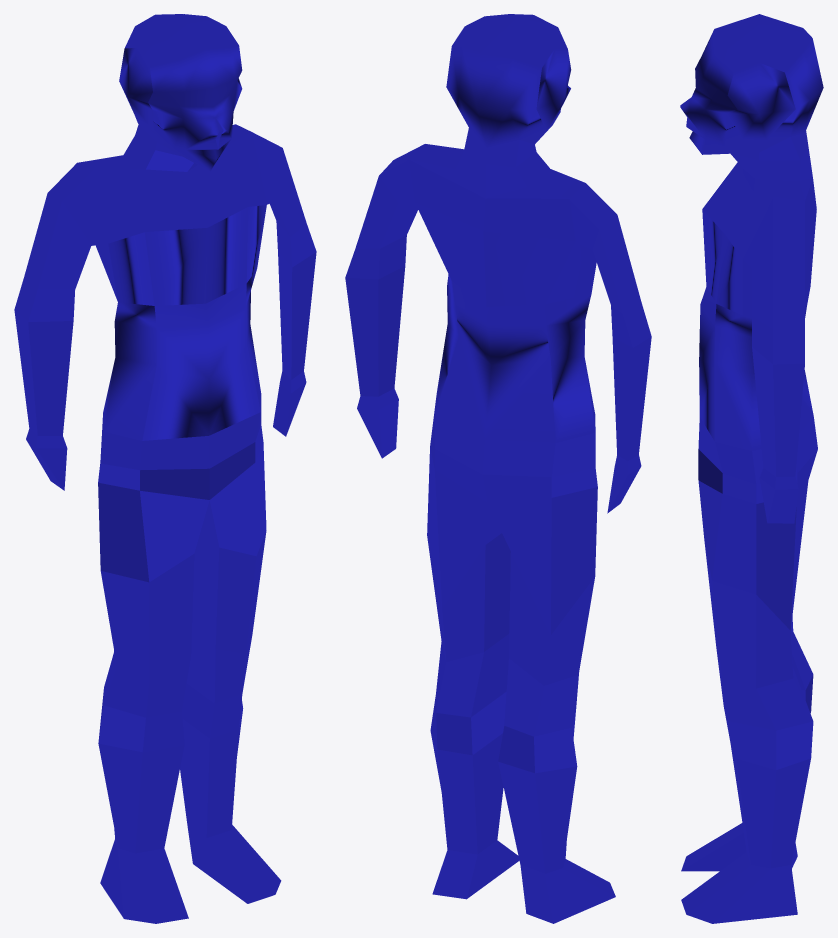
File: Ped_Man_Placeholder.obj
3 renders of one model, left to right at view 1: azimuth 30°, elevation 25°; view 2: azimuth 150°, elevation 25°; view 3: azimuth 270°, elevation 25°, orthographic.
Visible parts, largest first — view 1: Woman; view 2: Woman; view 3: Woman.
Boxes of the visible parts, left/top/right/bottom form: Woman: left=14, top=14, right=316, bottom=923; Woman: left=345, top=14, right=651, bottom=923; Woman: left=680, top=14, right=823, bottom=923.
Bounding box in the file's own units: 413 × 1189 × 178.
